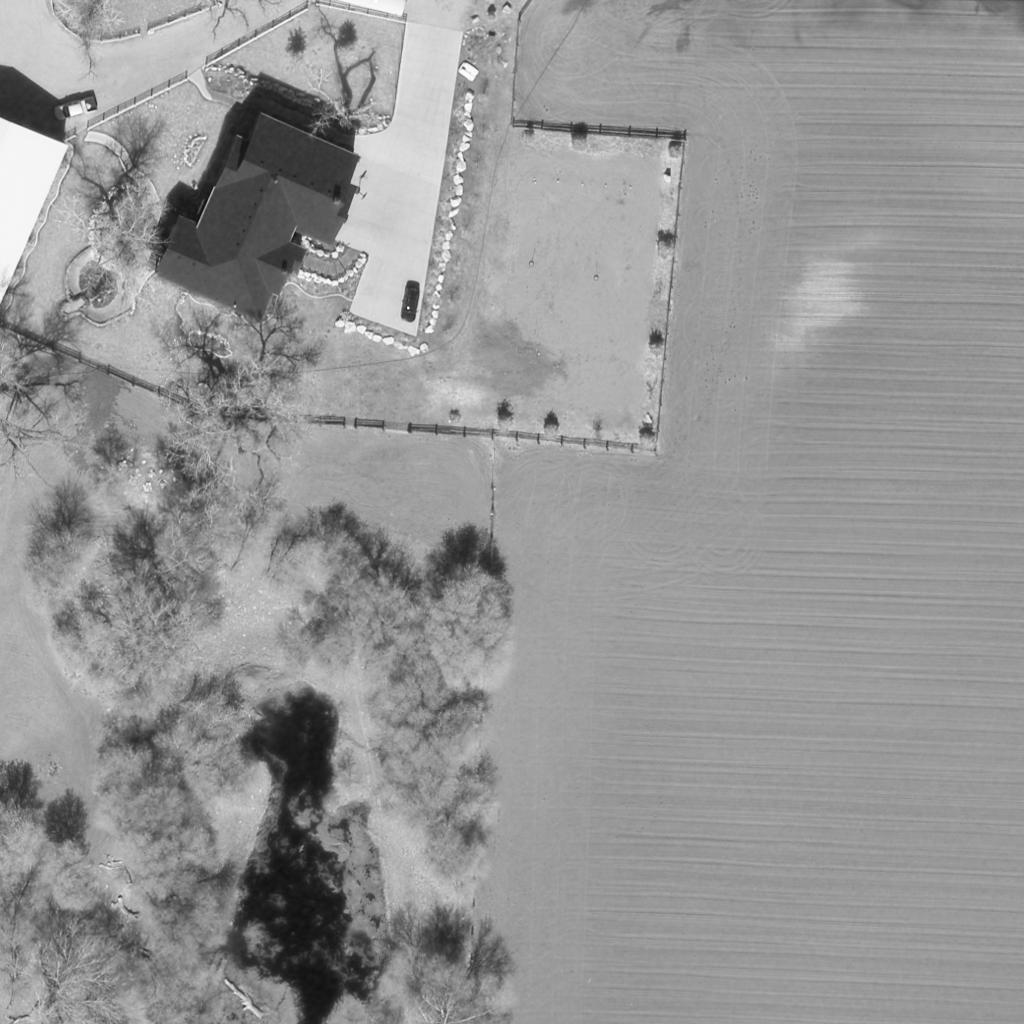vehicle: (54, 96, 100, 122), (402, 287, 420, 321)
